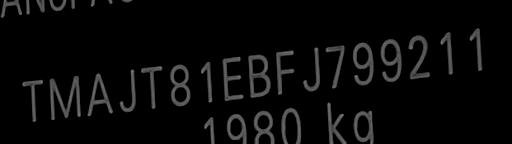letter: (50, 71, 84, 120), (274, 47, 300, 97), (246, 51, 272, 99), (220, 51, 244, 103), (168, 62, 194, 110), (140, 63, 166, 111), (406, 33, 432, 80), (378, 36, 404, 83), (88, 70, 114, 117), (116, 65, 140, 114), (351, 39, 375, 87), (324, 42, 348, 90), (19, 76, 45, 119), (465, 25, 487, 73), (300, 45, 322, 93), (437, 30, 459, 77), (196, 57, 216, 105)
